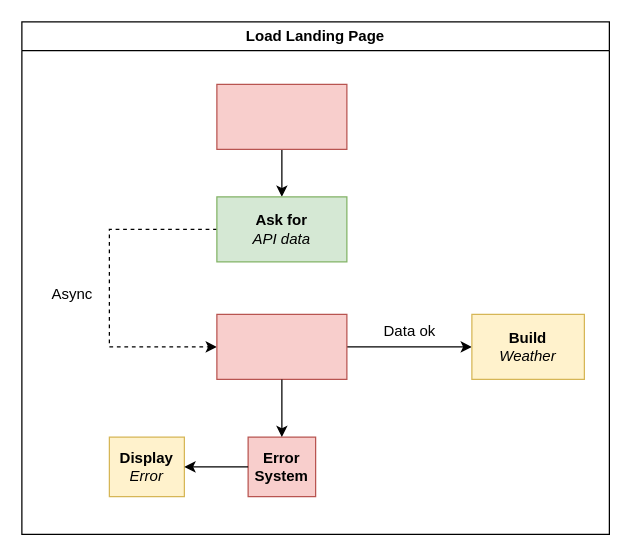
Image size: 631x556. Some labels were removed from this diagram. The box of each missing label's shape, as (x1, y1, x2, y2) in pixels:
Entry Point: (216, 83, 347, 149)
Receive API data: (216, 313, 347, 379)
